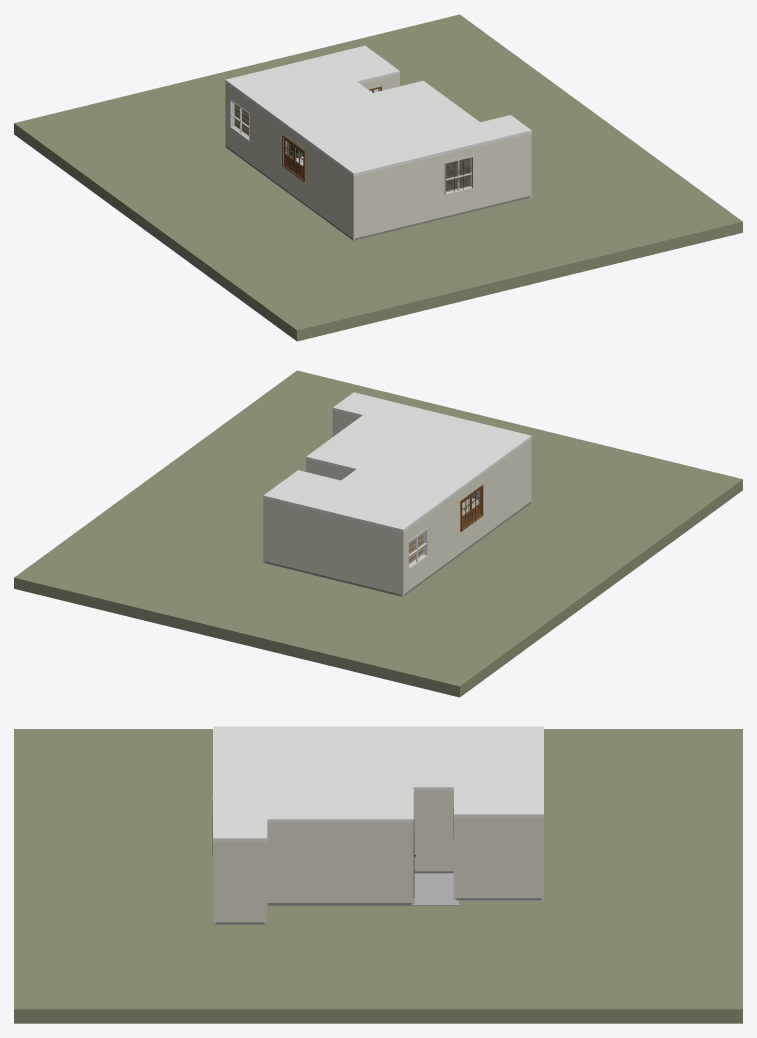
File: flat-04.glb
The picture shows the model from 3 angles, top to bottom: view 1: azimuth 30°, elevation 25°; view 2: azimuth 150°, elevation 25°; view 3: azimuth 270°, elevation 25°; orthographic projection. The views are drawn at different scales.
Visible parts, largest first — view 1: terreno, teto_sala, sala_B, teto_quarto, sala_L, quarto_X, lav_S, teto_banheiro, sala_B_janela, teto_lavanderia, sala_L_janela, sala_B_persiana (+1 smaller); view 2: terreno, teto_sala, fundo_H, teto_quarto, sala_L, quarto_X, teto_banheiro, sala_L_janela, teto_lavanderia, quarto_X_janela; view 3: terreno, teto_sala, sala_R, teto_quarto, banheiro_R, lav_R, quarto_Y, teto_banheiro, piso_varanda, teto_lavanderia, fundo_H.
Part boxes in pixels (<box>): terreno: <box>14,14,742,341</box>; teto_sala: <box>275,80,501,176</box>; sala_B: <box>355,141,499,239</box>; teto_quarto: <box>225,57,372,118</box>; sala_L: <box>276,121,356,240</box>; quarto_X: <box>225,83,277,183</box>; lav_S: <box>500,133,531,204</box>; teto_banheiro: <box>319,45,399,83</box>; sala_B_janela: <box>444,155,473,196</box>; teto_lavanderia: <box>481,115,531,140</box>; sala_L_janela: <box>282,135,304,182</box>; sala_B_persiana: <box>446,158,470,191</box>; terreno: <box>14,370,742,697</box>; teto_sala: <box>306,399,531,495</box>; fundo_H: <box>264,499,401,595</box>; teto_quarto: <box>309,469,453,532</box>; sala_L: <box>455,439,531,558</box>; quarto_X: <box>400,494,455,596</box>; teto_banheiro: <box>263,470,343,509</box>; sala_L_janela: <box>460,485,483,532</box>; teto_lavanderia: <box>332,392,383,416</box>; quarto_X_janela: <box>408,527,427,570</box>; terreno: <box>14,729,742,1023</box>; teto_sala: <box>213,726,413,822</box>; sala_R: <box>267,823,413,905</box>; teto_quarto: <box>413,726,543,790</box>; banheiro_R: <box>456,818,541,900</box>; lav_R: <box>213,842,267,924</box>; quarto_Y: <box>413,791,453,873</box>; teto_banheiro: <box>454,785,543,817</box>; piso_varanda: <box>409,873,458,905</box>; teto_lavanderia: <box>213,819,267,841</box>; fundo_H: <box>538,811,544,900</box>.
Bounding box in the file's own units: 19.72 × 3.32 × 21.69.
Materials: 25 (25 with a texture image).
